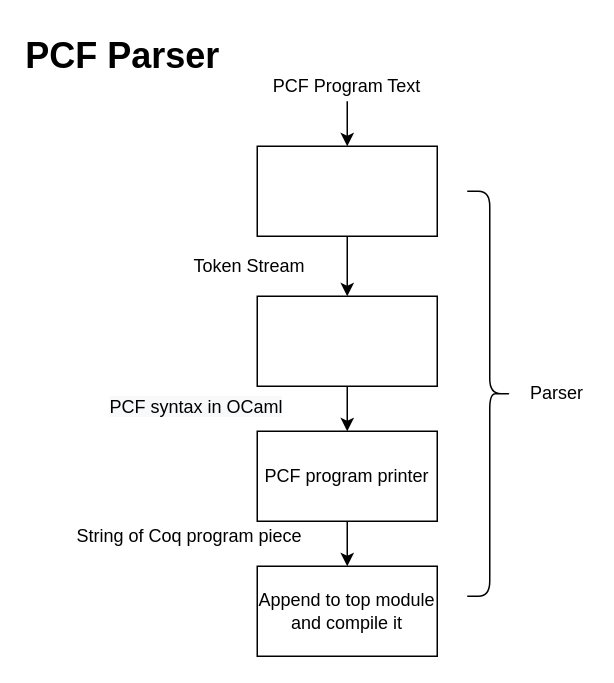
The diagram is 614 pixels wide and 683 high, and some of its shapes have lost their labels. Here are the shapes that lost their labels. From the top down, the centre of each, then its label:
the point at 346,190: Lexer
the point at 346,340: Pcfyacc
